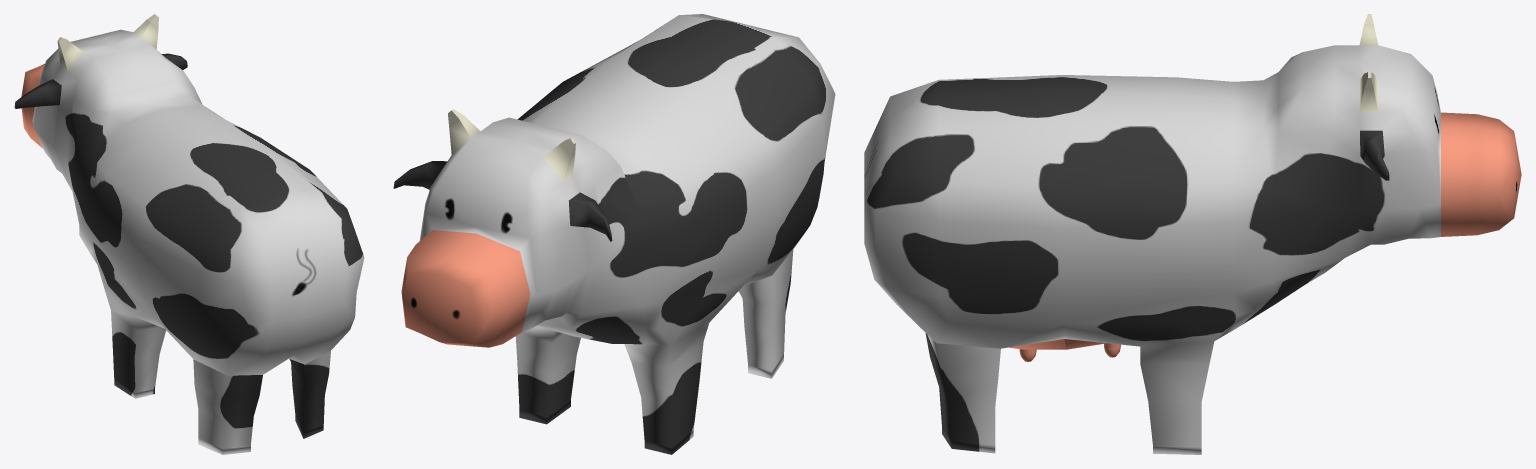
Rendered from cow.fbx.
3 renders of one model, left to right at view 1: azimuth 30°, elevation 25°; view 2: azimuth 150°, elevation 25°; view 3: azimuth 270°, elevation 25°, orthographic. The views are drawn at different scales.
Visible parts, largest first — view 1: polySurface8; view 2: polySurface8; view 3: polySurface8.
Boxes of the visible parts, x1,y1,x2,y2 form: polySurface8: (14, 14, 364, 454); polySurface8: (393, 14, 835, 454); polySurface8: (864, 14, 1521, 454).
Size of the model in its own units: 156 by 245 by 390.
